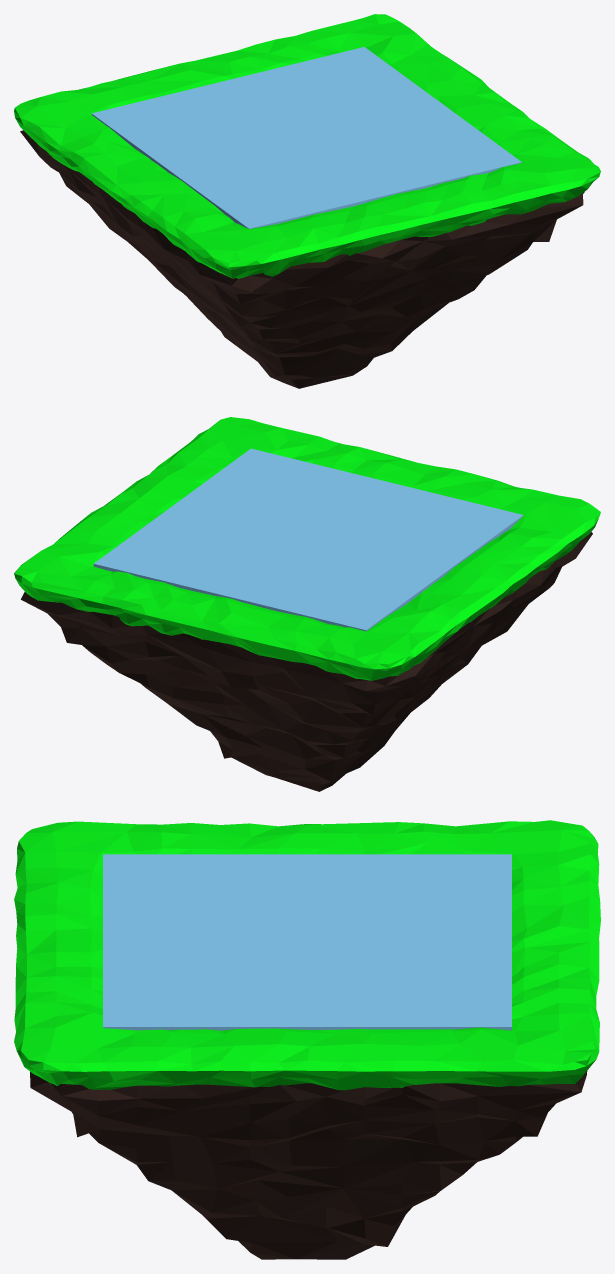
Rendered from terreno_juego.fbx.
3 renders of one model, top to bottom at view 1: azimuth 30°, elevation 25°; view 2: azimuth 150°, elevation 25°; view 3: azimuth 270°, elevation 25°, orthographic. The views are drawn at different scales.
Parts seen in each view (by area): view 1: Terrain .003, Terrain .004, Terrain .001; view 2: Terrain .003, Terrain .004, Terrain .001; view 3: Terrain .003, Terrain .004, Terrain .001.
Part boxes in pixels (bbox=[...]): Terrain .003: bbox=[14, 14, 600, 278]; Terrain .004: bbox=[91, 47, 521, 228]; Terrain .001: bbox=[20, 130, 584, 388]; Terrain .003: bbox=[14, 417, 600, 680]; Terrain .004: bbox=[93, 448, 523, 631]; Terrain .001: bbox=[21, 532, 592, 791]; Terrain .003: bbox=[14, 820, 600, 1090]; Terrain .004: bbox=[103, 854, 511, 1030]; Terrain .001: bbox=[30, 1071, 587, 1259].
Bounding box in the file's own units: 2008 × 1174 × 2009.
